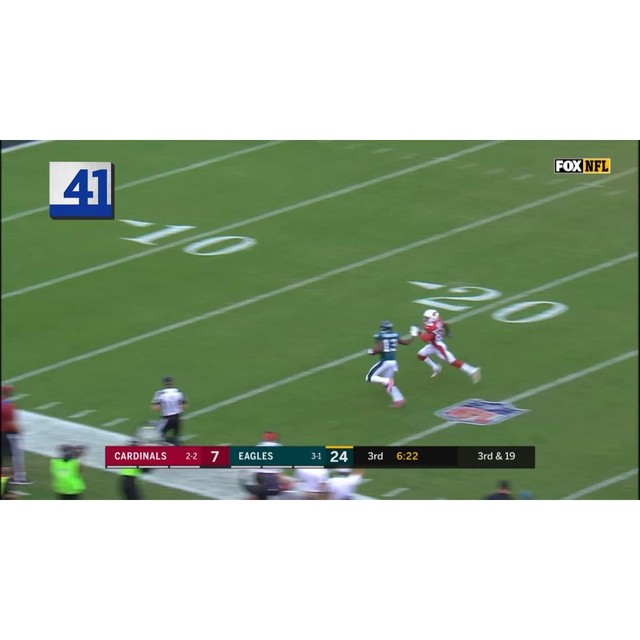american-football-player: (413, 308, 479, 384), (365, 320, 417, 408)
referee: (148, 374, 191, 442)
